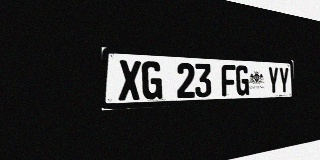2: (177, 62, 195, 98)
3: (195, 63, 211, 97)
F: (221, 64, 236, 96)
G: (142, 61, 162, 100), (236, 65, 249, 96)
X: (118, 60, 141, 101)
Y: (268, 66, 279, 94), (279, 67, 289, 94)
